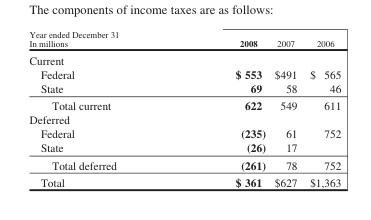table: (28, 29, 340, 188)
table column: (28, 29, 176, 188), (176, 29, 269, 188), (302, 29, 340, 188), (269, 29, 302, 188)
table column header: (28, 29, 340, 50)
table projected row header: (28, 50, 340, 66), (28, 112, 340, 126)
table row: (28, 29, 340, 50), (28, 155, 340, 173), (28, 50, 340, 66), (28, 80, 340, 96), (28, 96, 340, 112), (28, 140, 340, 155), (28, 173, 340, 188), (28, 66, 340, 80), (28, 112, 340, 126), (28, 126, 340, 140)
